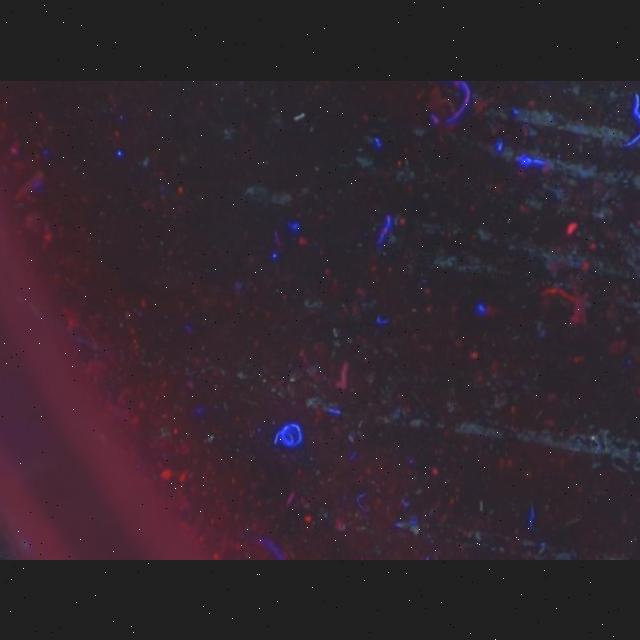microbeads: (292, 110, 306, 122)
